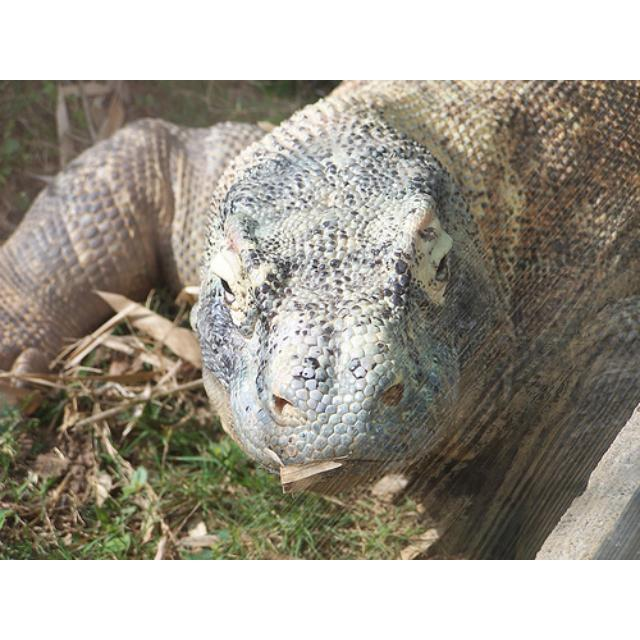KomodoDragon: (1, 80, 638, 478)
